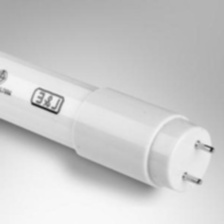light_bulb: (0, 44, 219, 198)
